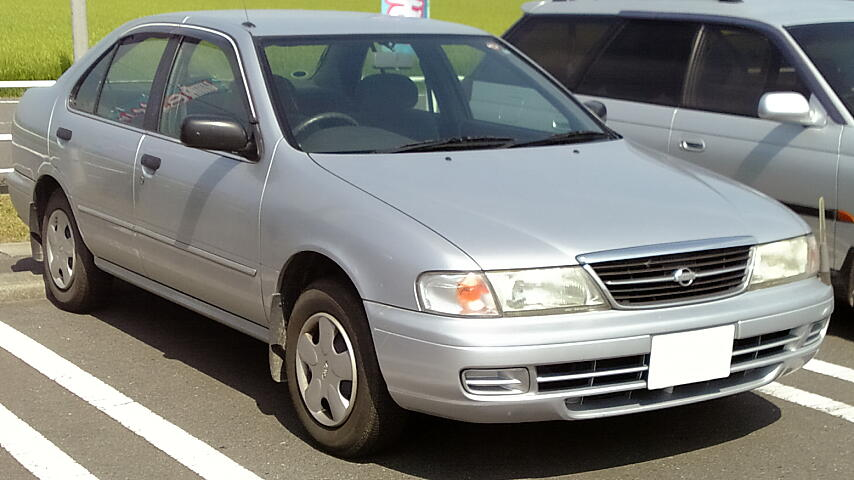sedan: (9, 9, 836, 458)
